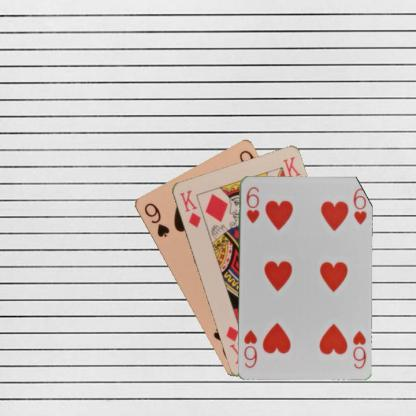6h: (349, 328, 367, 369), (243, 184, 260, 224)
9s: (141, 200, 170, 239)
Kd: (176, 187, 202, 229)
